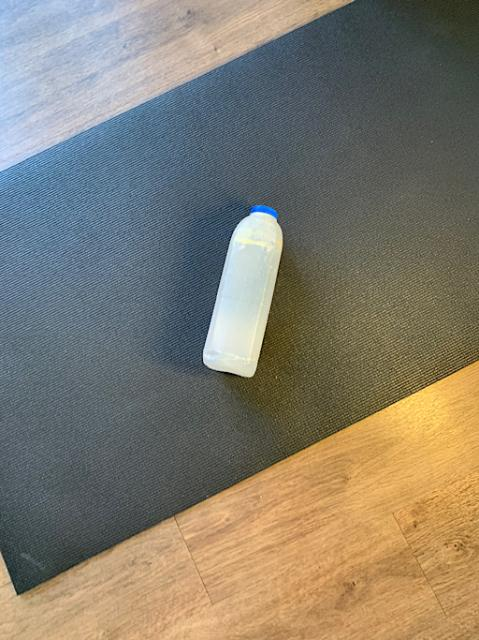plastic: (202, 204, 281, 375)
